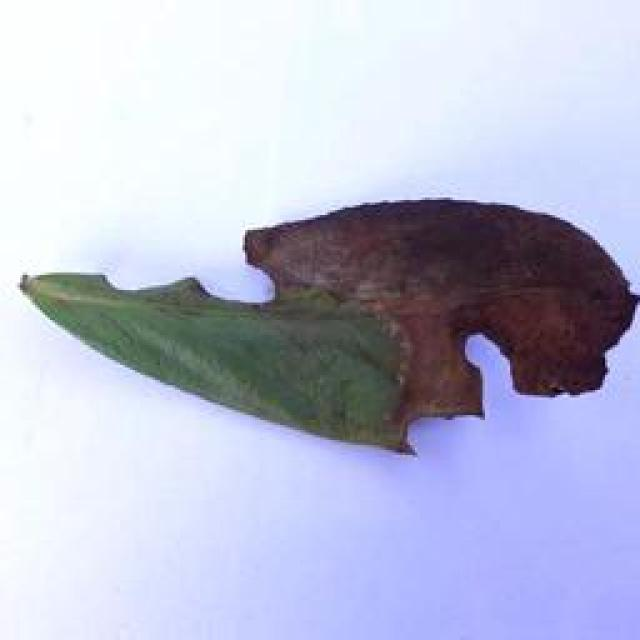Brown Blight: (6, 183, 640, 458)
